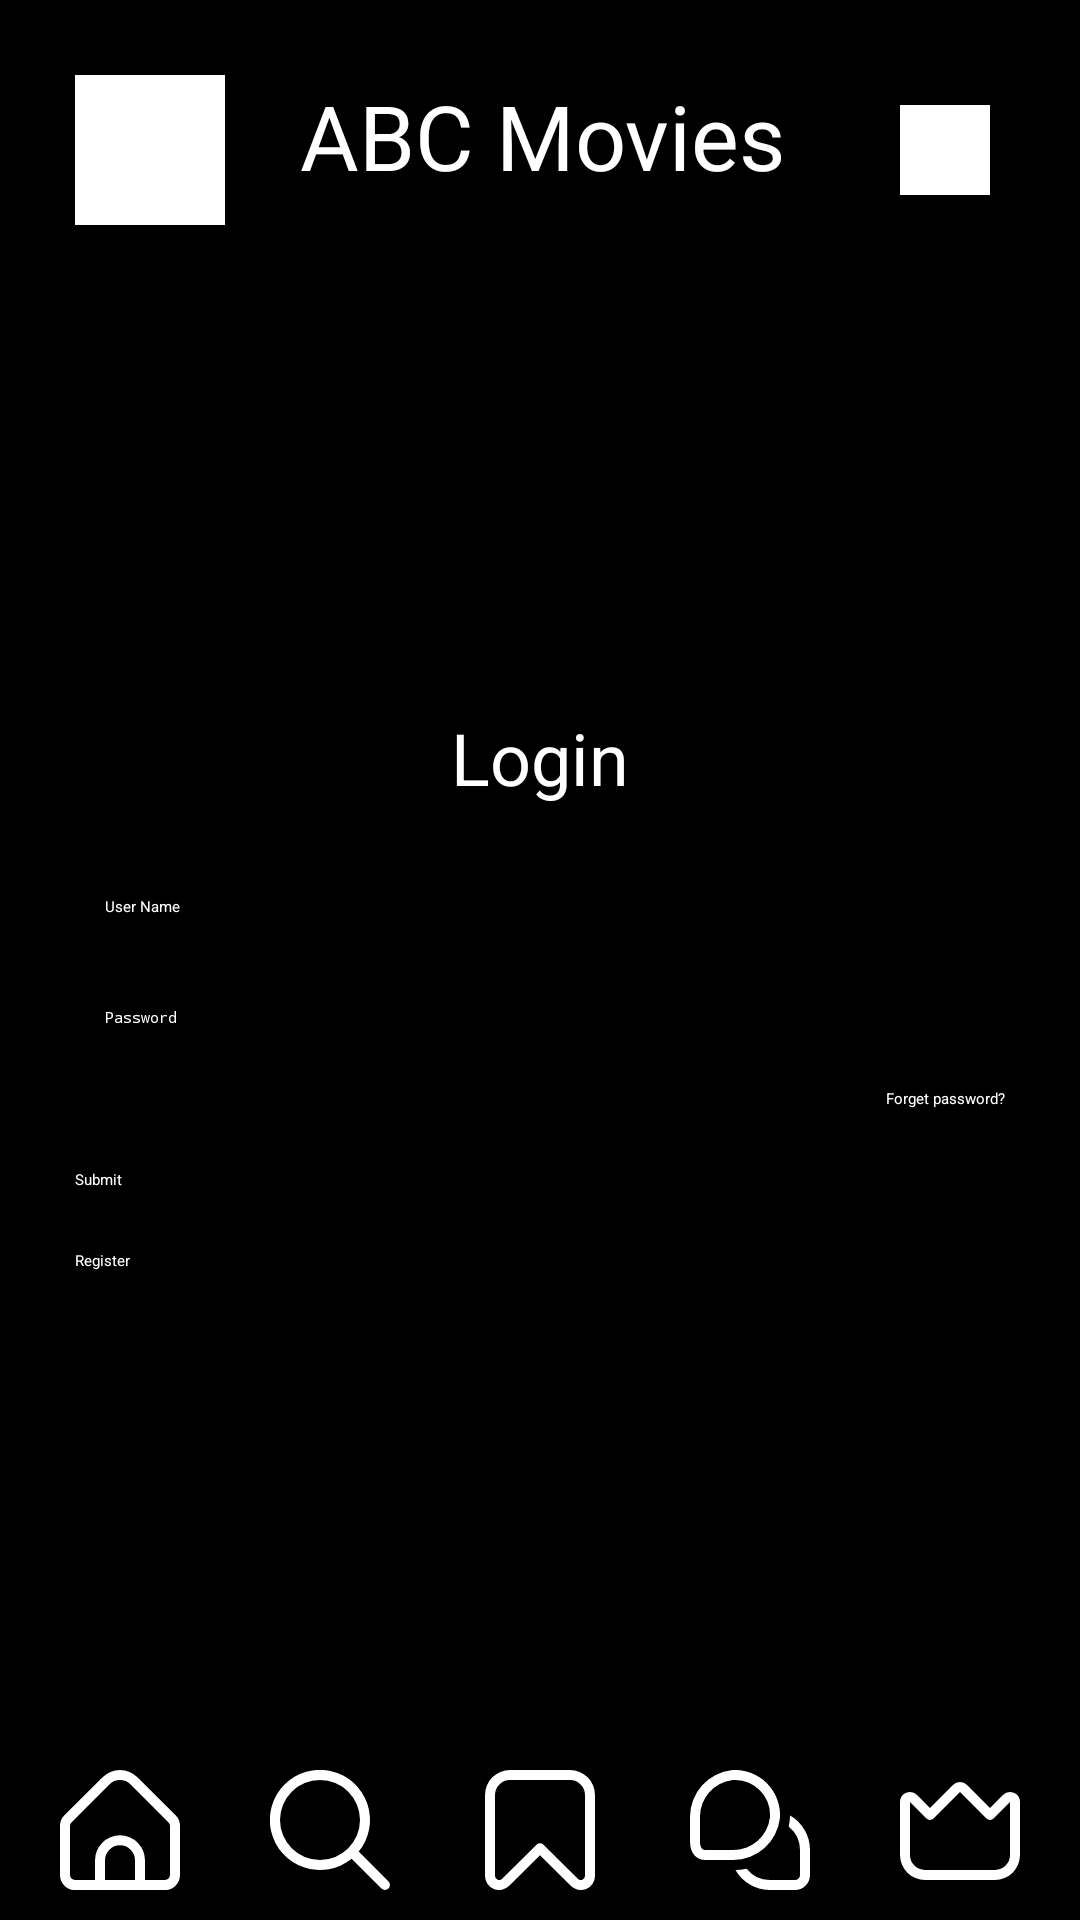

Icon bounding boxes for this 1080 × 1920 phone screenshot, format (x1=x1, y1=y1, x2=x2, y2=y2):
Chat: (x1=690, y1=1770, x2=810, y2=1890)
Home: (x1=60, y1=1770, x2=180, y2=1890)
Premium: (x1=900, y1=1782, x2=1020, y2=1880)
Save List: (x1=485, y1=1770, x2=595, y2=1890)
Search: (x1=270, y1=1770, x2=390, y2=1890)
